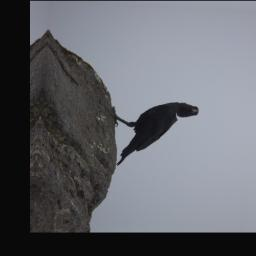Crow: (108, 98, 201, 171)
